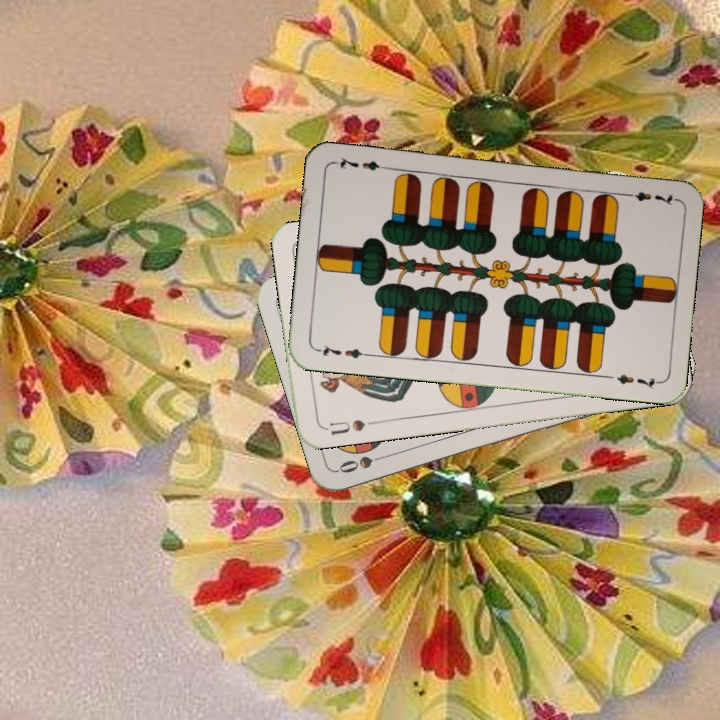E7: (618, 187, 678, 208), (312, 341, 371, 361)
SO: (334, 450, 393, 476)
SU: (319, 415, 379, 438)
